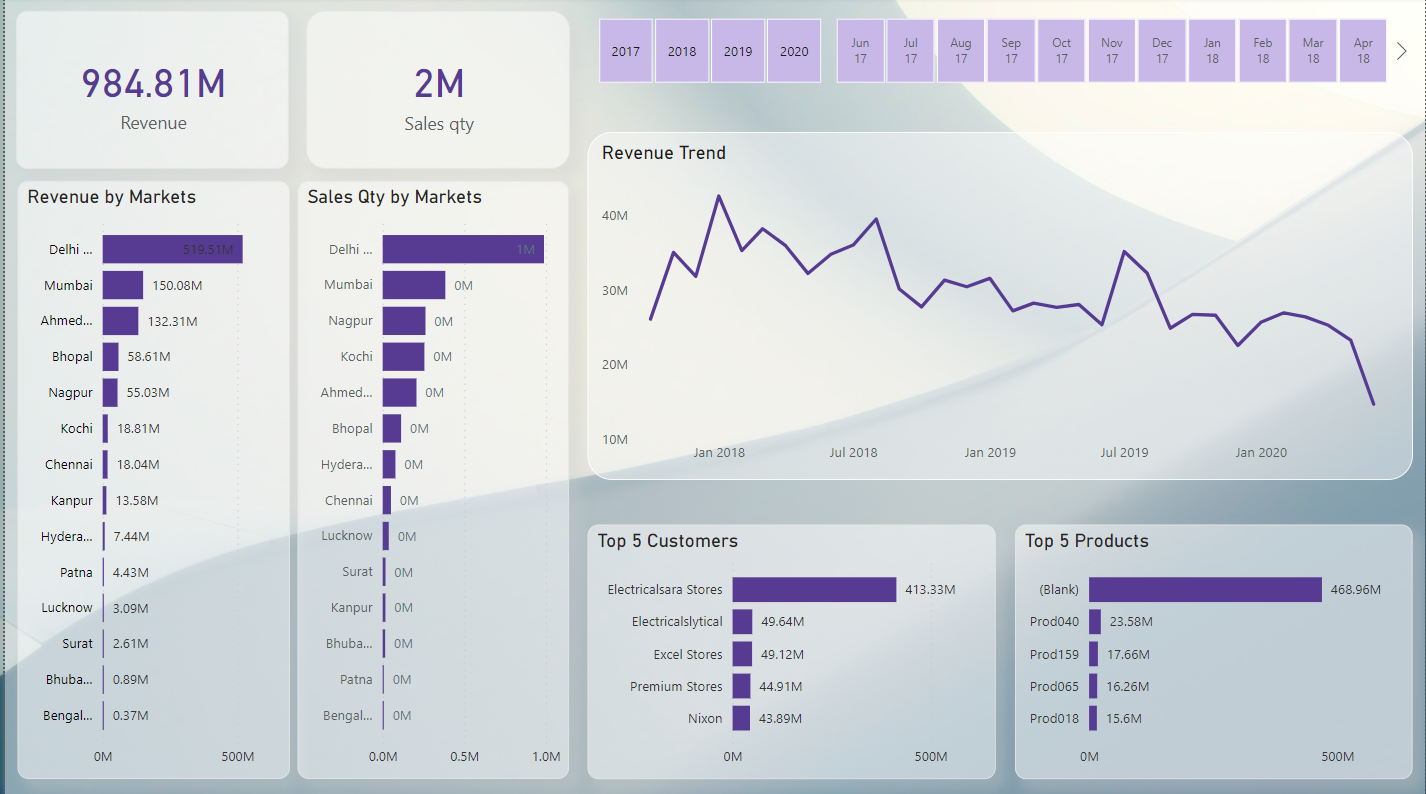

This screenshot's page, from the dashboard's own definition file:
{"tool":"powerbi","page":{"name":"Page 1","canvas":[1280,720],"ordinal":0},"visuals":[{"type":"card","fields":{"Values":["BaseMeasures (2).Revenue"]},"box":[9.6,12,245.7,142.6],"z":0},{"type":"card","fields":{"Values":["BaseMeasures (2).Sales qty"]},"box":[272.1,12,237.3,142.6],"z":1000},{"type":"barChart","title":"Revenue by Markets","fields":{"Category":["sales markets.markets_name"],"Y":["BaseMeasures (2).Revenue"]},"box":[10.8,165.4,245.7,539.3],"z":2000},{"type":"barChart","title":"Sales Qty by Markets","fields":{"Category":["sales markets.markets_name"],"Y":["BaseMeasures (2).Sales qty"]},"box":[263.4,165.9,245.1,539],"z":3000},{"type":"slicer","fields":{"Values":["sales date.year"]},"box":[509.4,12,250.5,71.9],"z":4000},{"type":"slicer","fields":{"Values":["sales date.cy_date"]},"box":[723.9,12,546.5,71.9],"z":5000},{"type":"barChart","title":"Top 5 Customers","fields":{"Category":["sales customers.custmer_name"],"Y":["BaseMeasures (2).Revenue"]},"box":[525.6,475.6,368.3,229.3],"z":6000},{"type":"barChart","title":"Top 5 Products","fields":{"Category":["sales products.product_code"],"Y":["BaseMeasures (2).Revenue"]},"box":[911,475.6,358.5,229.3],"z":7000},{"type":"lineChart","title":"Revenue Trend","fields":{"Y":["BaseMeasures (2).Revenue"],"Category":["sales date.cy_date.Variation.Date Hierarchy.Year","sales date.cy_date.Variation.Date Hierarchy.Quarter","sales date.cy_date.Variation.Date Hierarchy.Month","sales date.cy_date.Variation.Date Hierarchy.Day"]},"box":[525.6,122,743.9,313.4],"z":8000}]}

Visuals, with their boxes in screenshot pixels (x1, y1, x2, y2), scaled from the page's 1280x720 canvas onto the 1426x794 screenshot:
card - BaseMeasures (2).Revenue: {"x1": 11, "y1": 13, "x2": 284, "y2": 170}
card - BaseMeasures (2).Sales qty: {"x1": 303, "y1": 13, "x2": 568, "y2": 170}
"Revenue by Markets" barChart: {"x1": 12, "y1": 182, "x2": 286, "y2": 777}
"Sales Qty by Markets" barChart: {"x1": 293, "y1": 183, "x2": 567, "y2": 777}
slicer - sales date.year: {"x1": 568, "y1": 13, "x2": 847, "y2": 93}
slicer - sales date.cy_date: {"x1": 806, "y1": 13, "x2": 1415, "y2": 93}
"Top 5 Customers" barChart: {"x1": 586, "y1": 524, "x2": 996, "y2": 777}
"Top 5 Products" barChart: {"x1": 1015, "y1": 524, "x2": 1414, "y2": 777}
"Revenue Trend" lineChart: {"x1": 586, "y1": 135, "x2": 1414, "y2": 480}
